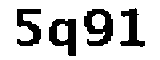1: (117, 7, 149, 49)
5: (12, 5, 43, 51)
9: (82, 6, 116, 50)
q: (46, 16, 82, 59)
